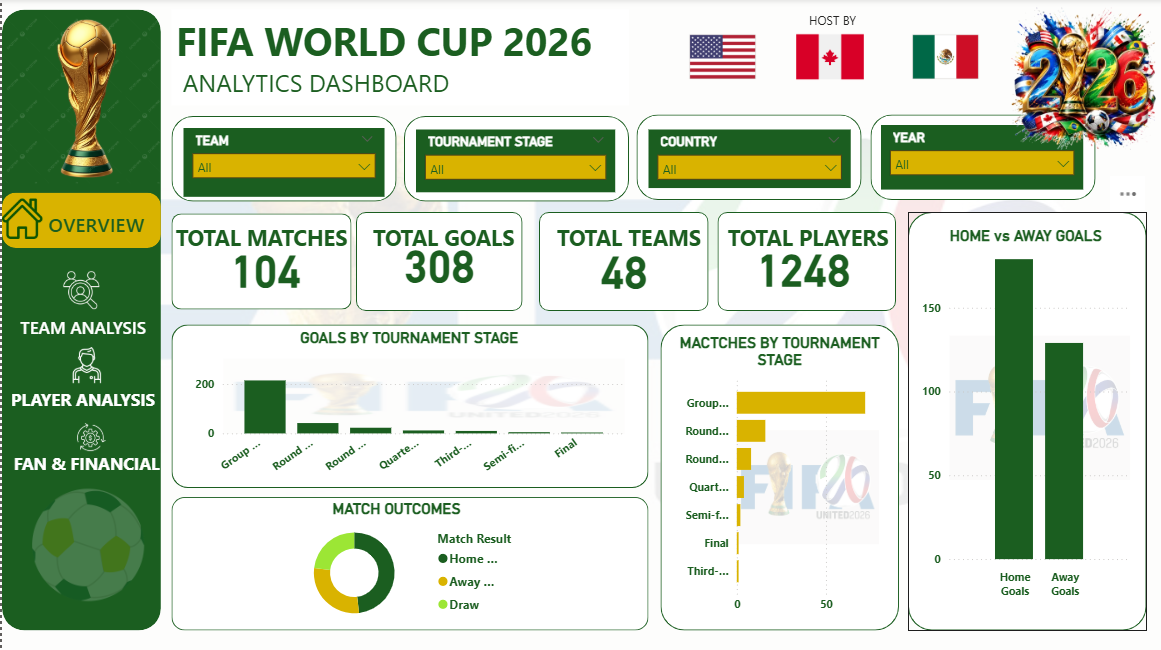

The dashboard page shown, as its layout file describes it:
{"tool":"powerbi","page":{"name":"Tournament Overview","canvas":[1280,720],"ordinal":0},"visuals":[{"type":"shape","box":[790.1,235.2,197.1,109.3],"z":0},{"type":"card","fields":{"Values":["Measures (2).Total Players"]},"box":[820,255.1,129.2,77.9],"z":1000},{"type":"shape","box":[593,235.2,187.2,109.3],"z":2000},{"type":"shape","box":[390.9,235.2,183.9,109.3],"z":3000},{"type":"shape","box":[187.2,236.9,198.8,106],"z":4000},{"type":"textbox","box":[187.2,11.6,505.2,106],"z":5000},{"type":"card","fields":{"Values":["Measures (2).Total Goals"]},"box":[412.5,243.5,140.8,91.1],"z":6000},{"type":"card","fields":{"Values":["Measures (2).Total Matches"]},"box":[220.3,255.1,140.8,79.5],"z":7000},{"type":"card","fields":{"Values":["Measures (2).Total Teams"]},"box":[632.8,253.4,107.7,84.5],"z":8000},{"type":"shape","box":[0,11.6,175.6,685.8],"z":9000},{"type":"shape","box":[187.2,129.2,248.5,94.4],"z":10000},{"type":"shape","box":[959.1,127.5,248.5,94.4],"z":11000},{"type":"slicer","fields":{"Values":["Fact_FinancialImpact.Year"]},"box":[970.7,139.1,223.6,71.2],"z":12000},{"type":"shape","box":[443.9,129.2,248.5,94.4],"z":13000},{"type":"slicer","fields":{"Values":["Dim_TournamentStages.stage_name"]},"box":[457.2,144.1,220.3,69.6],"z":14000},{"type":"slicer","fields":{"Values":["Dim_Teams.team_name"]},"box":[200.4,142.5,222,76.2],"z":15000},{"type":"shape","box":[700.7,127.5,248.5,94.4],"z":16000},{"type":"slicer","fields":{"Values":["Fact_FanEngagement.Country"]},"box":[713.9,144.1,223.6,64.6],"z":17000},{"type":"shape","box":[1000.5,235.2,263.4,462.2],"z":18000},{"type":"clusteredColumnChart","title":"HOME vs AWAY GOALS","fields":{"Category":["Goal Type.Goal Type"],"Y":["Measures (2).Goal Comparison"]},"box":[1010.5,251.8,240.2,417.4],"z":19000},{"type":"shape","box":[727.2,359.5,263.4,337.9],"z":20000},{"type":"shape","box":[187.2,359.5,526.8,180.6],"z":21000},{"type":"shape","box":[187.2,550,526.8,147.4],"z":22000},{"type":"donutChart","title":"MATCH OUTCOMES","fields":{"Category":["Match Result.Match Result"],"Y":["Measures (2).Match Result Count"]},"box":[291.5,553.3,288.2,140.8],"z":23000},{"type":"clusteredColumnChart","title":"GOALS BY TOURNAMENT STAGE","fields":{"Category":["Dim_TournamentStages.stage_name"],"Y":["Measures (2).Total Goals"]},"box":[207.1,364.4,485.3,169],"z":24000},{"type":"clusteredBarChart","title":"MACTCHES BY TOURNAMENT STAGE","fields":{"Category":["Dim_TournamentStages.stage_name"],"Y":["Measures (2).Total Matches"]},"box":[737.1,369.4,243.5,316.4],"z":25000},{"type":"image","box":[0,11.6,187.2,197.1],"z":26000},{"type":"shape","box":[0,213.7,175.6,61.3],"z":27000},{"type":"textbox","box":[182.2,241.8,208.7,51.4],"z":28000},{"type":"textbox","box":[395.9,241.8,183.9,48],"z":29000},{"type":"textbox","box":[601.3,241.8,182.2,56.3],"z":30000},{"type":"textbox","box":[9.9,344.5,154.1,43.1],"z":31000},{"type":"textbox","box":[0,424.1,178.9,71.2],"z":32000},{"type":"textbox","box":[46.4,228.6,120.9,41.4],"z":33000},{"type":"image","box":[0,213.7,44.7,58],"z":34000},{"type":"textbox","box":[0,495.3,187.2,41.4],"z":35000},{"type":"image","box":[1111.5,0,165.6,178.9],"z":36000},{"type":"image","box":[59.6,384.3,67.9,39.8],"z":37000},{"type":"image","box":[59.6,298.2,56.3,46.4],"z":38000},{"type":"image","box":[33.1,508.5,124.2,188.8],"z":39000},{"type":"image","box":[48,467.1,101,33.1],"z":40000},{"type":"textbox","box":[780.2,241.8,220.3,92.8],"z":41000},{"type":"image","box":[740.4,26.5,111,74.5],"z":42000},{"type":"image","box":[859.7,26.5,109.3,74.5],"z":43000},{"type":"image","box":[987.3,26.5,109.3,74.5],"z":44000},{"type":"textbox","box":[765.3,8.3,299.8,38.1],"z":45000}]}

Visuals, with their boxes in screenshot pixels (x1, y1, x2, y2), scaled from the page's 1280x720 canvas onto the 1161x650 screenshot:
shape: 717, 212, 895, 311
card - Measures (2).Total Players: 744, 230, 861, 301
shape: 538, 212, 708, 311
shape: 355, 212, 521, 311
shape: 170, 214, 350, 310
textbox: 170, 10, 628, 106
card - Measures (2).Total Goals: 374, 220, 502, 302
card - Measures (2).Total Matches: 200, 230, 328, 302
card - Measures (2).Total Teams: 574, 229, 672, 305
shape: 0, 10, 159, 630
shape: 170, 117, 395, 202
shape: 870, 115, 1095, 200
slicer - Fact_FinancialImpact.Year: 880, 126, 1083, 190
shape: 403, 117, 628, 202
slicer - Dim_TournamentStages.stage_name: 415, 130, 615, 193
slicer - Dim_Teams.team_name: 182, 129, 383, 197
shape: 636, 115, 861, 200
slicer - Fact_FanEngagement.Country: 648, 130, 850, 188
shape: 907, 212, 1146, 630
"HOME vs AWAY GOALS" clusteredColumnChart: 917, 227, 1134, 604
shape: 660, 325, 899, 630
shape: 170, 325, 648, 488
shape: 170, 497, 648, 630
"MATCH OUTCOMES" donutChart: 264, 500, 526, 627
"GOALS BY TOURNAMENT STAGE" clusteredColumnChart: 188, 329, 628, 482
"MACTCHES BY TOURNAMENT STAGE" clusteredBarChart: 669, 333, 889, 619
image: 0, 10, 170, 188
shape: 0, 193, 159, 248
textbox: 165, 218, 355, 265
textbox: 359, 218, 526, 262
textbox: 545, 218, 711, 269
textbox: 9, 311, 149, 350
textbox: 0, 383, 162, 447
textbox: 42, 206, 152, 244
image: 0, 193, 41, 245
textbox: 0, 447, 170, 485
image: 1008, 0, 1158, 162
image: 54, 347, 116, 383
image: 54, 269, 105, 311
image: 30, 459, 143, 630
image: 44, 422, 135, 452
textbox: 708, 218, 907, 302
image: 672, 24, 772, 91
image: 780, 24, 879, 91
image: 896, 24, 995, 91
textbox: 694, 7, 966, 42
